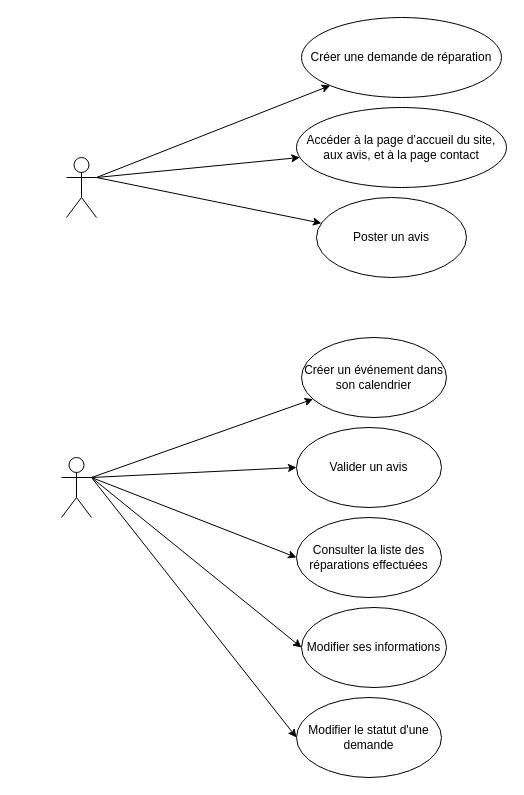
Some shapes in this 524 by 795 pixel diagram are drawn without their labels. Each missing label, with the centre of its shape:
"Utilisateur connecté" goes at [76,487].
"Utilisateur non-connecté" goes at [81,187].
